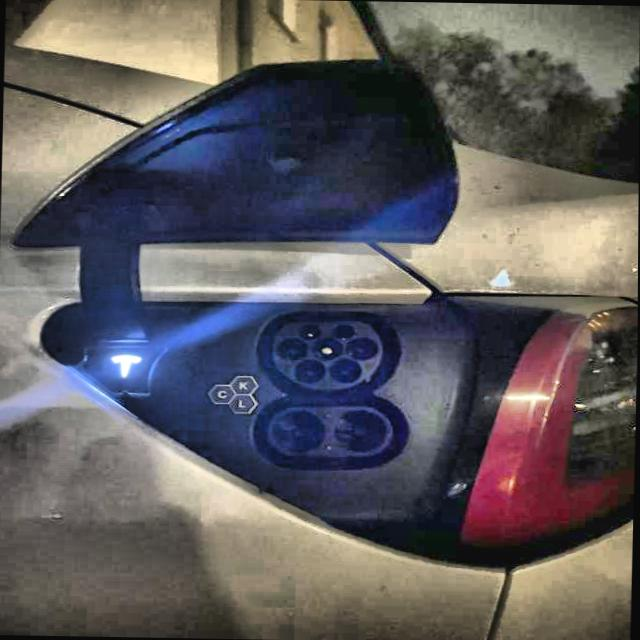inlet: (272, 320, 382, 389)
inlet-above-left: (299, 324, 321, 339)
inlet-above-right: (335, 324, 355, 339)
inlet-below-left: (294, 358, 326, 383)
inlet-below-right: (329, 358, 362, 382)
inlet-center: (311, 338, 344, 359)
inlet-center-left: (278, 337, 309, 360)
inlet-center-right: (346, 336, 379, 360)
